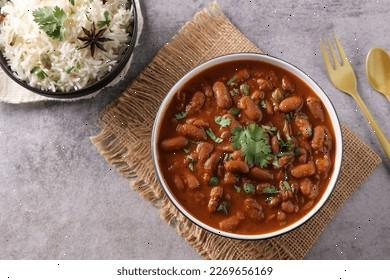rajma: (181, 71, 344, 219)
rice: (2, 3, 144, 92)
